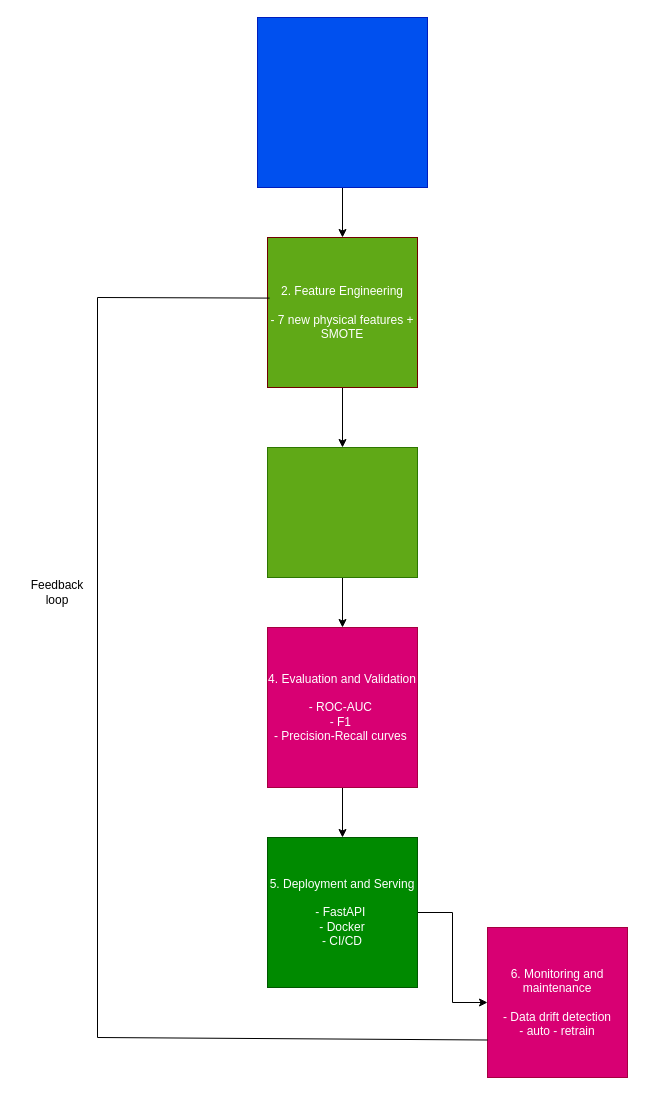
Some shapes in this 645 by 1095 pixel diagram are drawn without their labels. Here are the shapes that lost their labels. From the top down, the centre of each, then its label:
At point 342,102: "1. Receiving Data and Profiling - 19,020 events - 10 Hillas params".
At point 342,512: "3. Stacking ensemble training - 5 base learners + meta-model".
